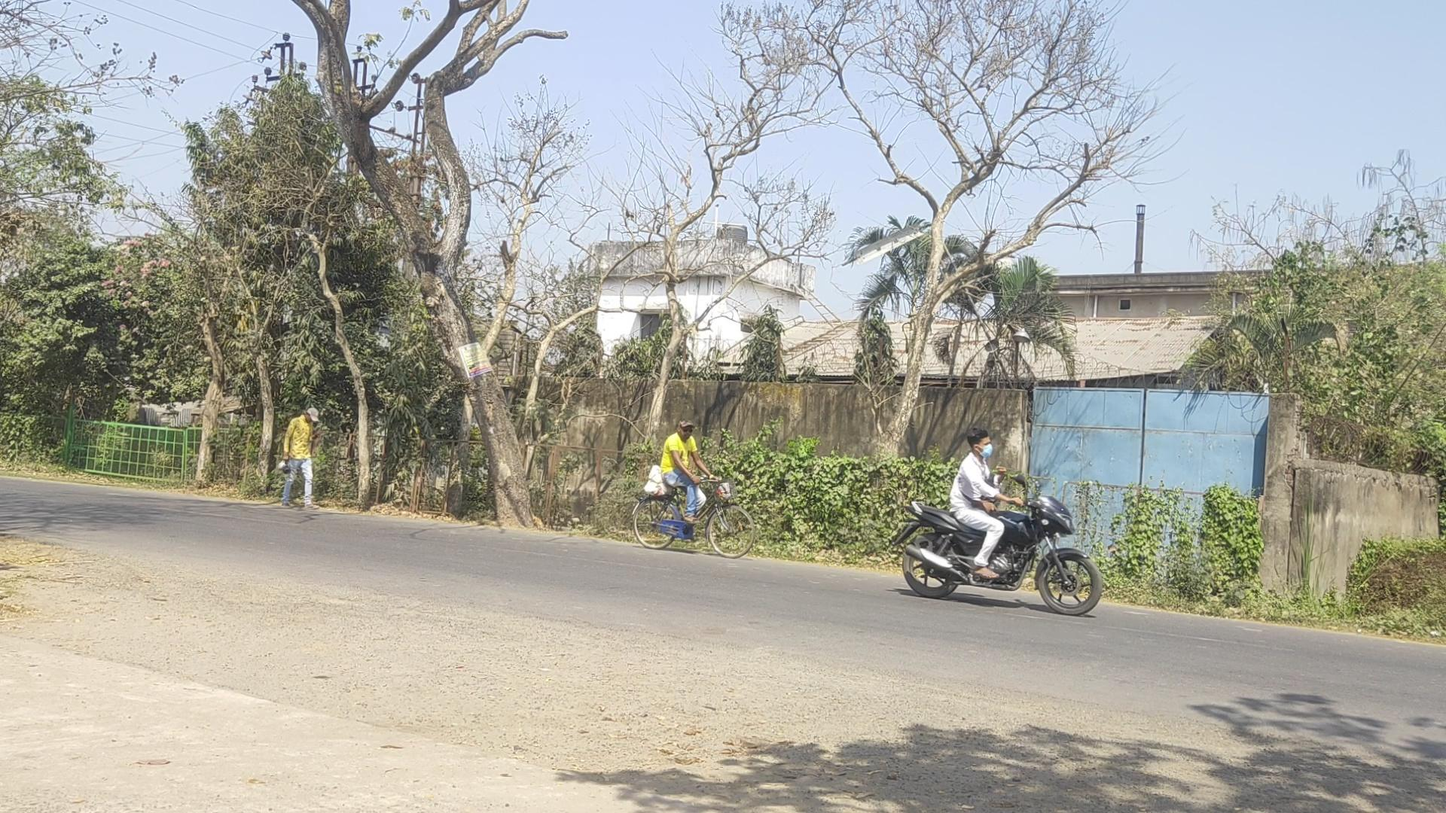bike: (893, 428, 1103, 616), (631, 419, 755, 559)
